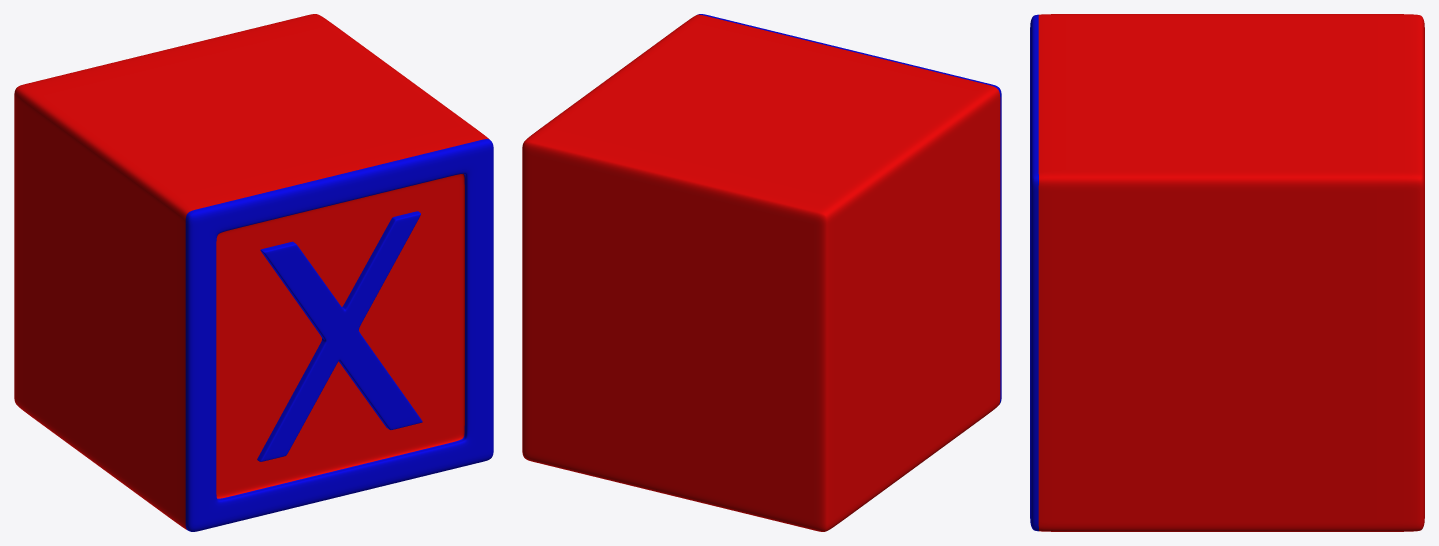
File: Letter_Cube_X_High.fbx
3 renders of one model, left to right at view 1: azimuth 30°, elevation 25°; view 2: azimuth 150°, elevation 25°; view 3: azimuth 270°, elevation 25°, orthographic. The views are drawn at different scales.
Parts seen in each view (by area): view 1: Cube_high, X_high; view 2: Cube_high; view 3: Cube_high.
Boxes of the visible parts, x1,y1,x2,y2 form: Cube_high: (14,14,493,531); X_high: (257,211,422,461); Cube_high: (522,14,1001,531); Cube_high: (1030,14,1424,531).
Bounding box in the file's own units: 80 × 80 × 80.
